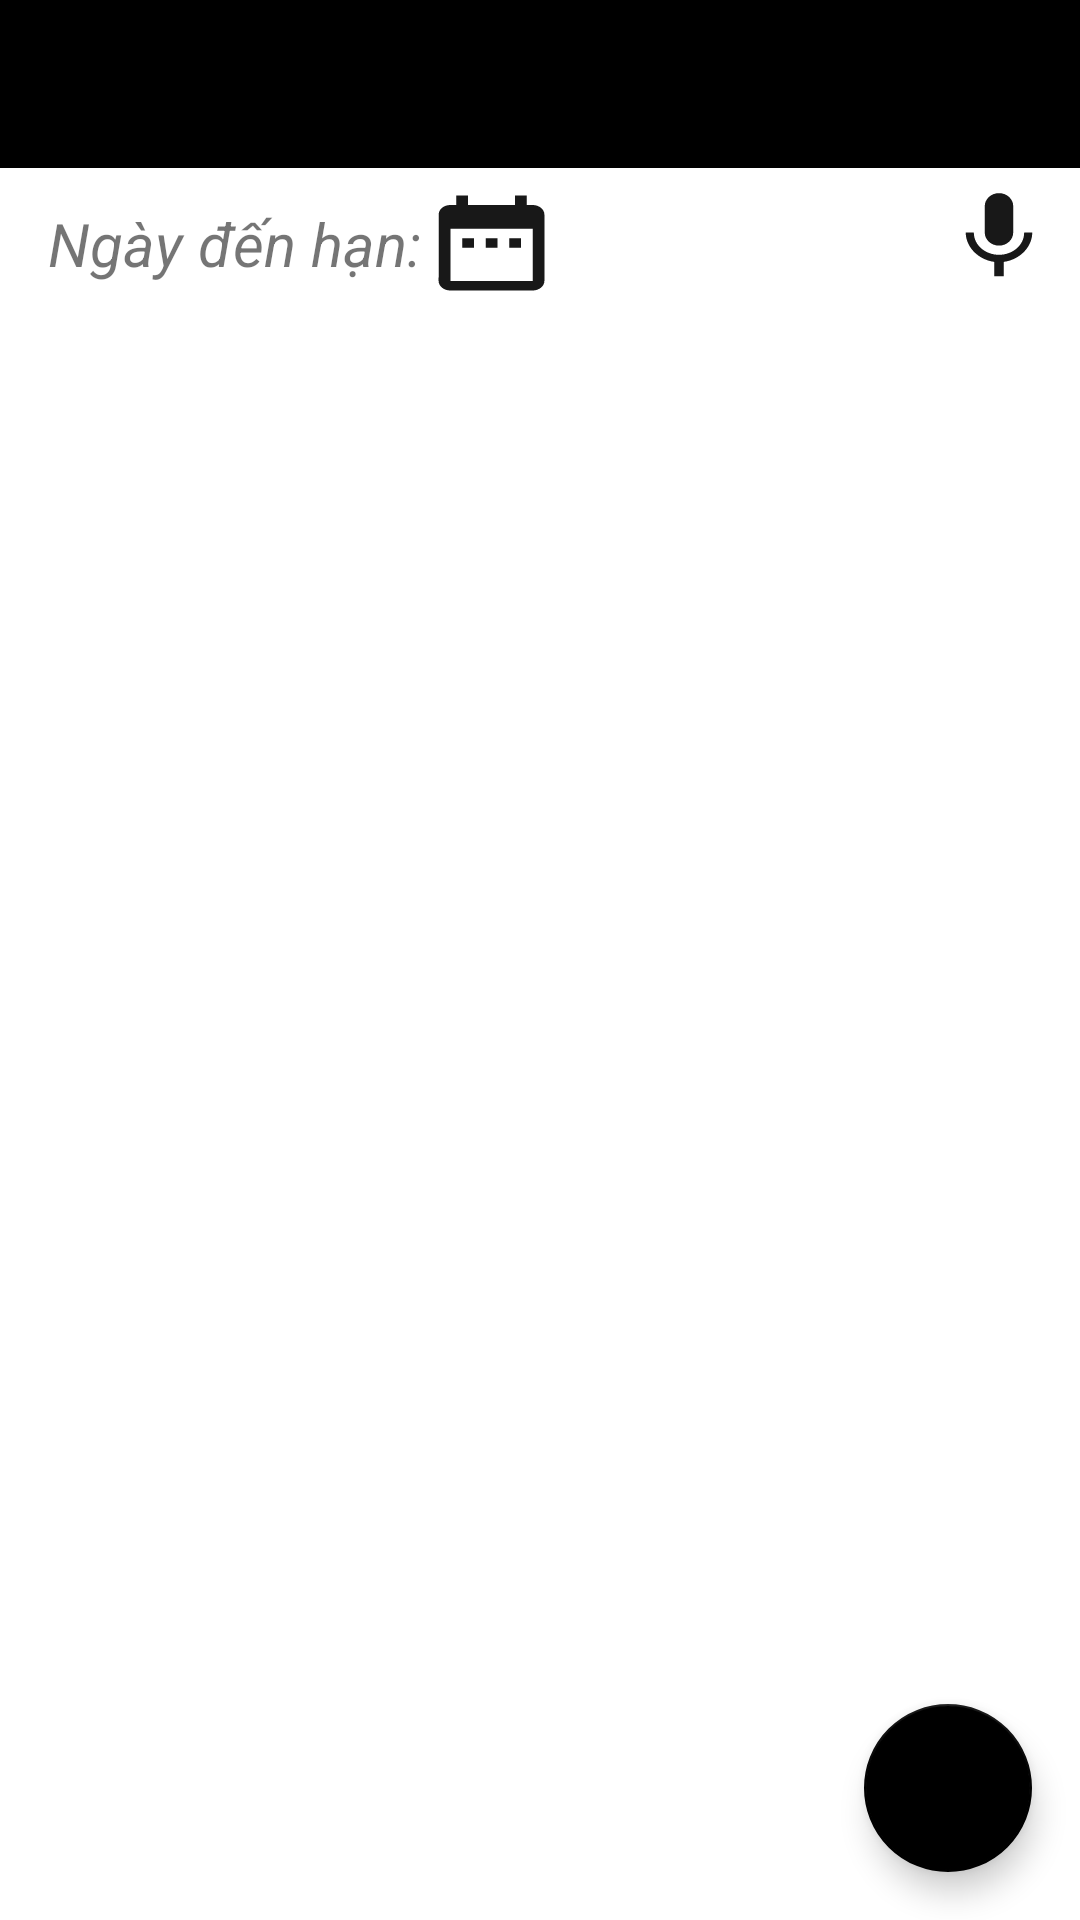

Screen size 1080w x 1920h. Icon name, then its box in pixels as (x1, y1, x2, y2):
date range: (438, 195, 545, 291)
keyboard voice: (965, 193, 1033, 277)
